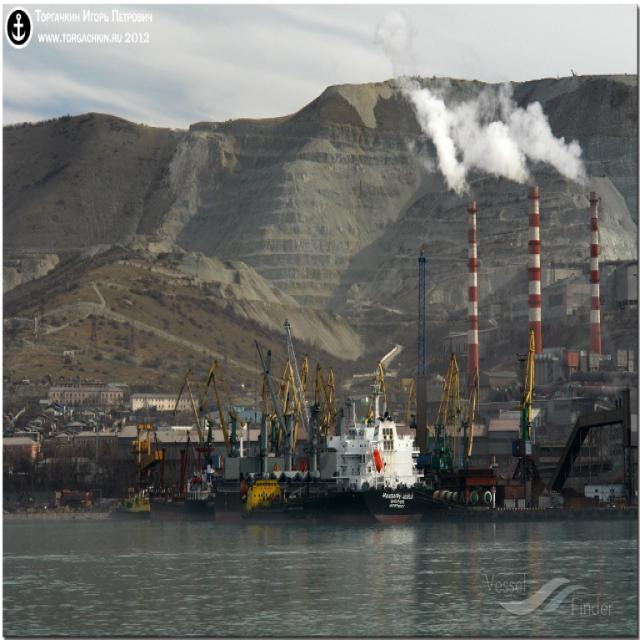OCR: (379, 490, 417, 515)
